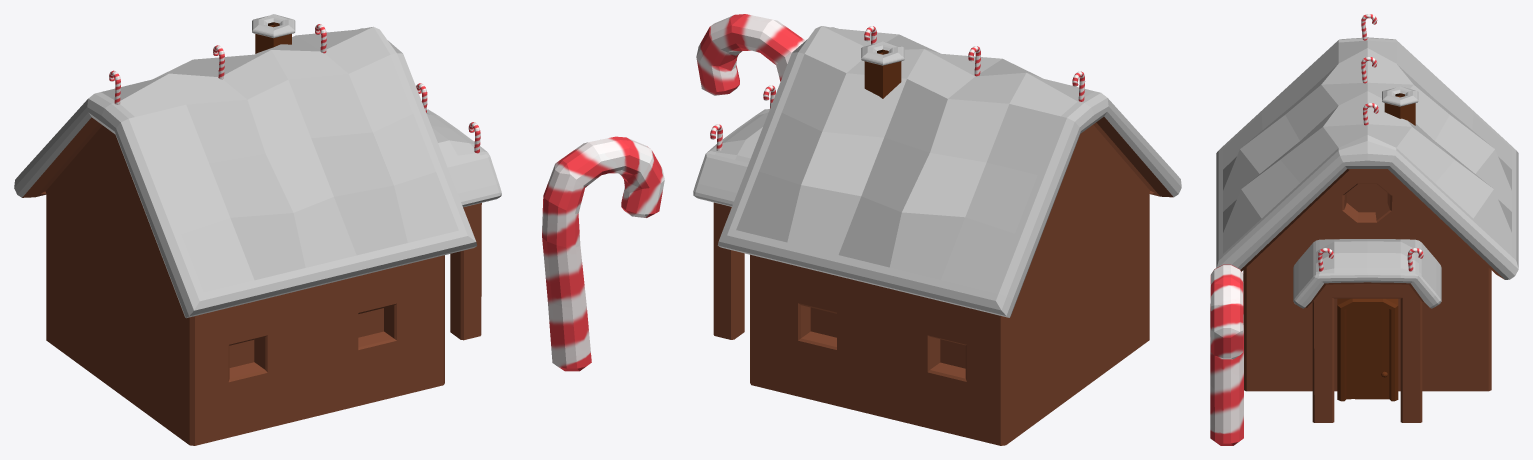
File: casa.fbx
3 renders of one model, left to right at view 1: azimuth 30°, elevation 25°; view 2: azimuth 150°, elevation 25°; view 3: azimuth 270°, elevation 25°, orthographic. The views are drawn at different scales.
Visible parts, largest first — view 1: casa; view 2: casa; view 3: casa.
Part boxes in pixels (x1=…): casa: x1=14, y1=14, x2=664, y2=445; casa: x1=693, y1=14, x2=1181, y2=445; casa: x1=1210, y1=14, x2=1518, y2=445.
Bounding box in the file's own units: 1373 × 889 × 910.
